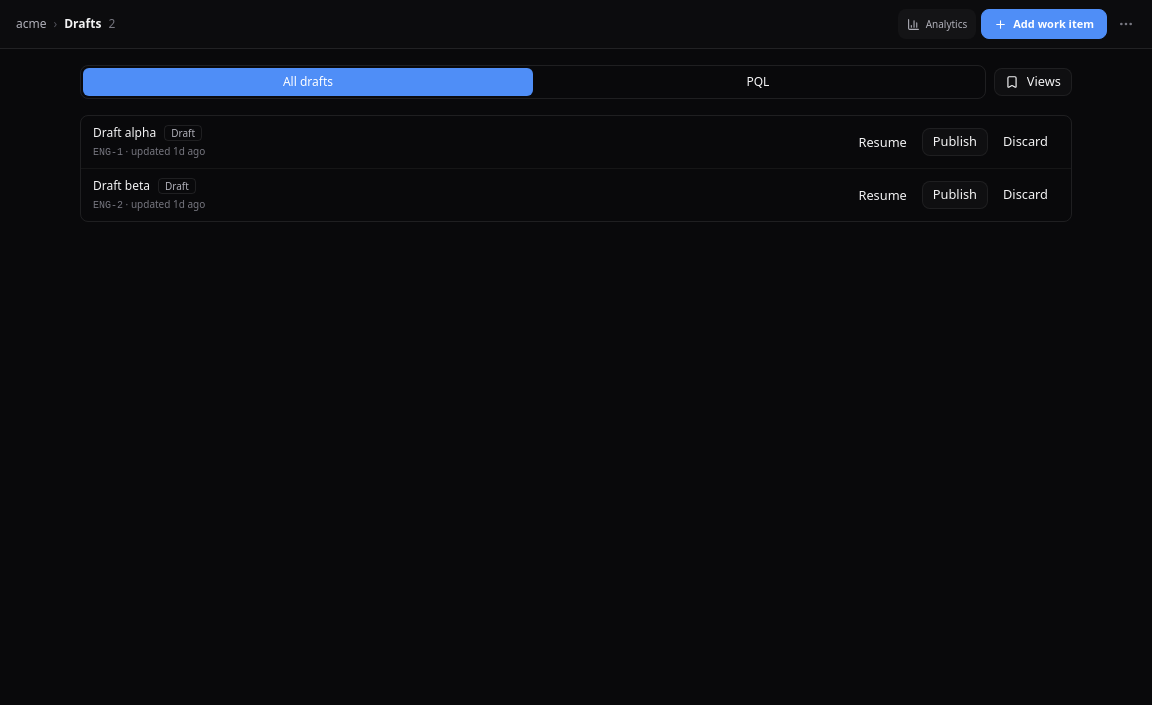
Scenario: drafts PQL mode (C111T2) › leaving PQL mode restores the full draft set and closes the editor
Expected: the link "Draft alpha" is shown, [93,124,156,142]
Expected: the link "Draft beta" is shown, [93,177,150,195]
Click the button "PQL" at (758, 82), box [533,68,983,96]
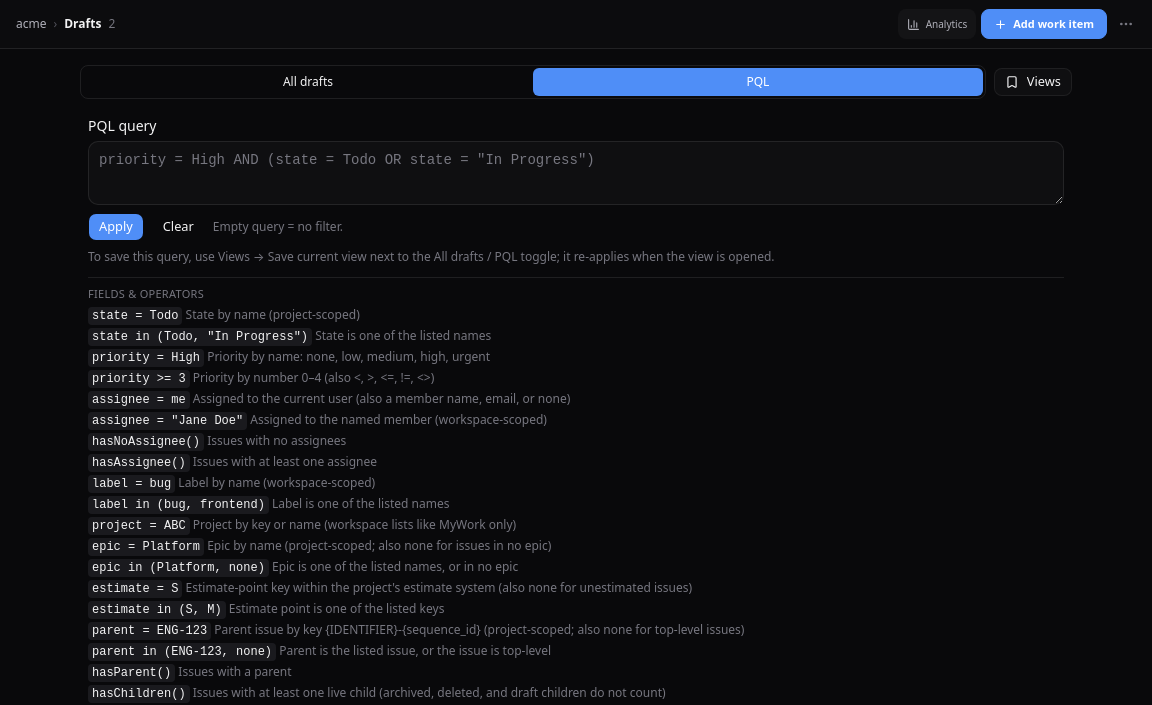
Expected: the text box labelled "PQL query" is shown
Type "name ~ beta" into the text box labelled "PQL query" at (576, 173), box [88,141,1064,205]
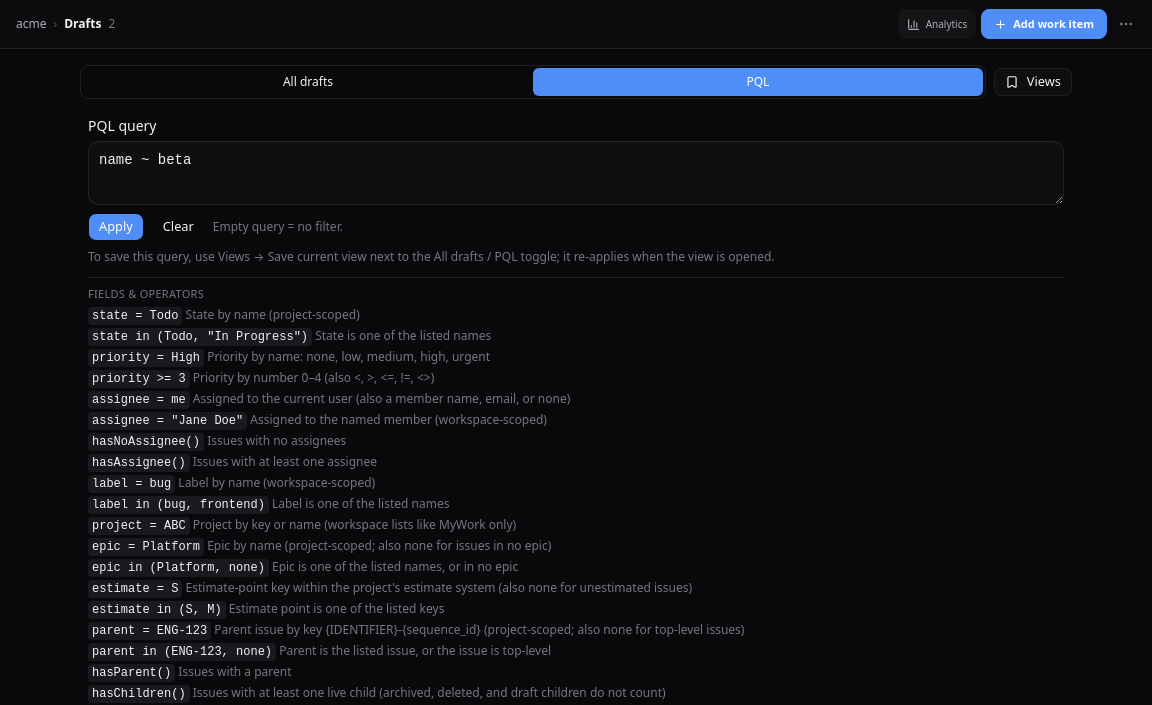
Click the button "Apply" at (116, 227), box [88,213,144,241]
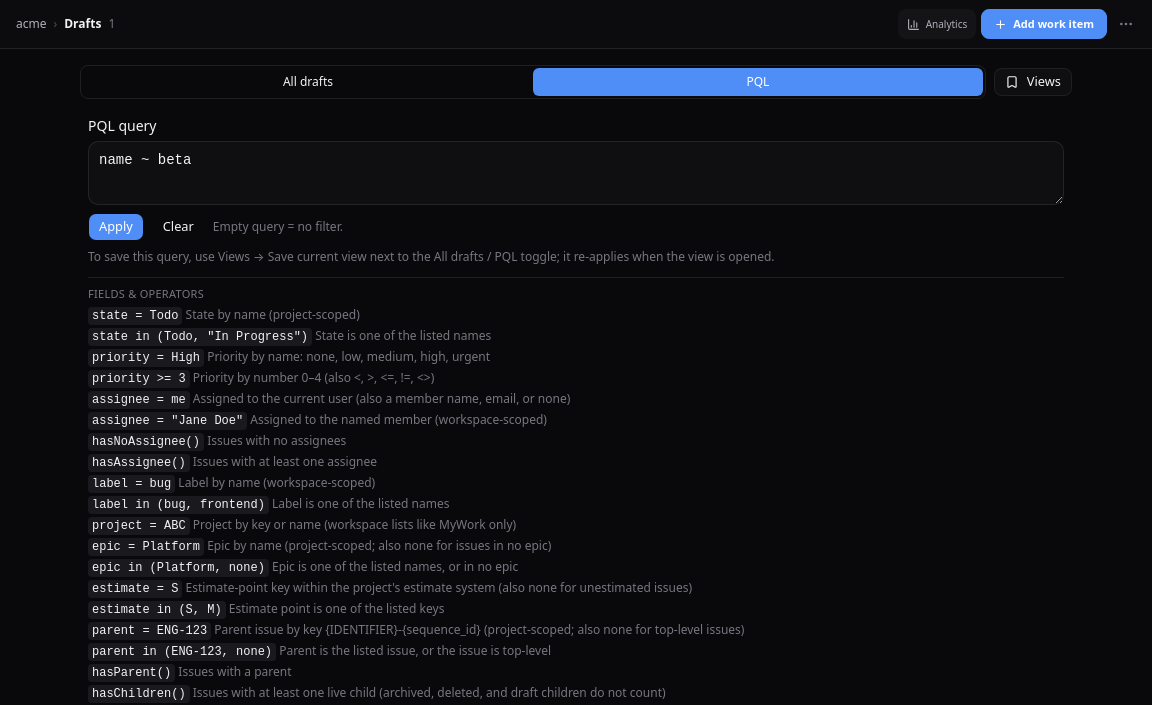
Expected: the link "Draft alpha" is not shown
Click the button "All drafts" at (308, 82), box [83,68,533,96]
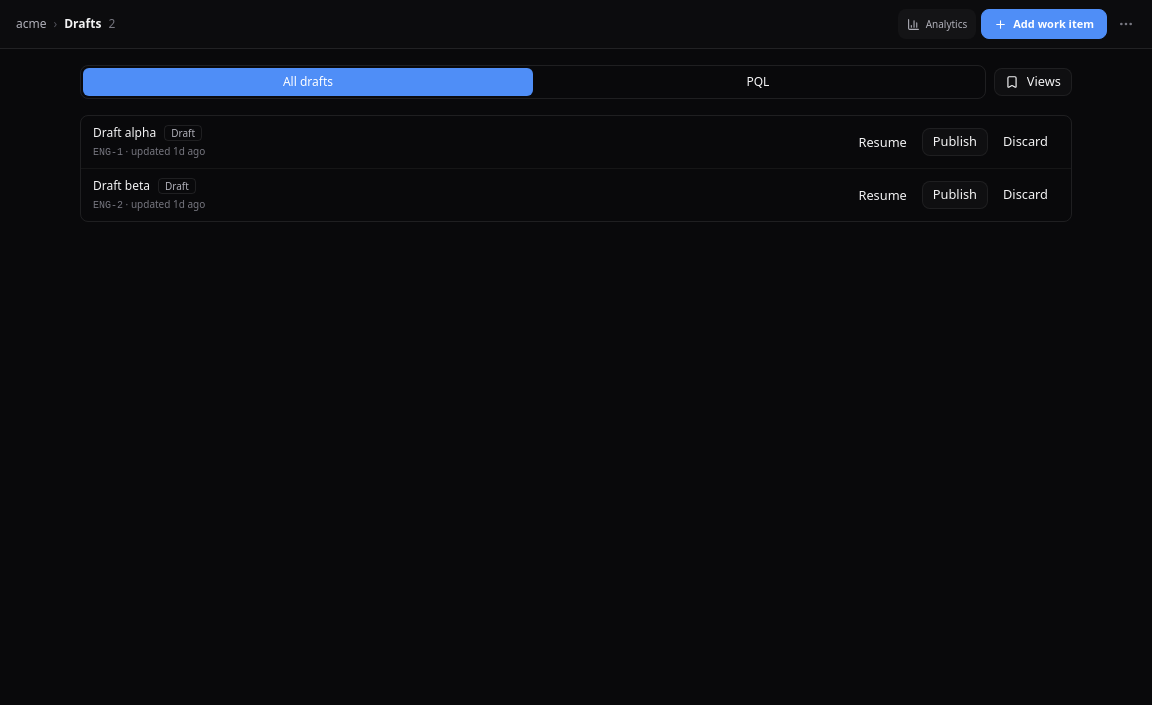
Expected: the link "Draft beta" is shown, [93,177,150,195]
Expected: the link "Draft alpha" is shown, [93,124,156,142]
Expected: the label labelled "PQL query" is gone
